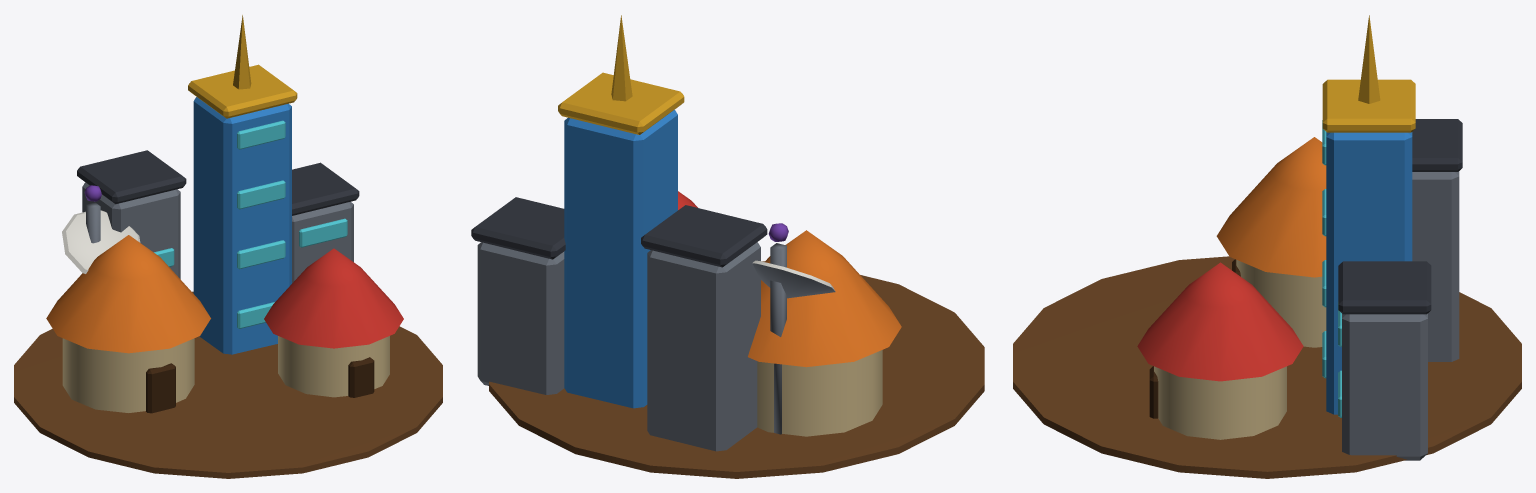
3 renders of one model, left to right at view 1: azimuth 30°, elevation 25°; view 2: azimuth 150°, elevation 25°; view 3: azimuth 270°, elevation 25°, orthographic. The views are drawn at different scales.
Visible parts, largest first — view 1: vila_0_base, vila_1_torreta; view 2: vila_0_base, vila_1_torreta; view 3: vila_0_base, vila_1_torreta.
Boxes of the visible parts, x1,y1,x2,y2 form: vila_0_base: (14, 64, 442, 478); vila_1_torreta: (233, 15, 251, 89); vila_0_base: (471, 72, 984, 478); vila_1_torreta: (611, 15, 632, 101); vila_0_base: (1013, 79, 1521, 478); vila_1_torreta: (1358, 15, 1380, 103).
Size of the model in its own units: 1.32 by 1.1 by 1.3.
